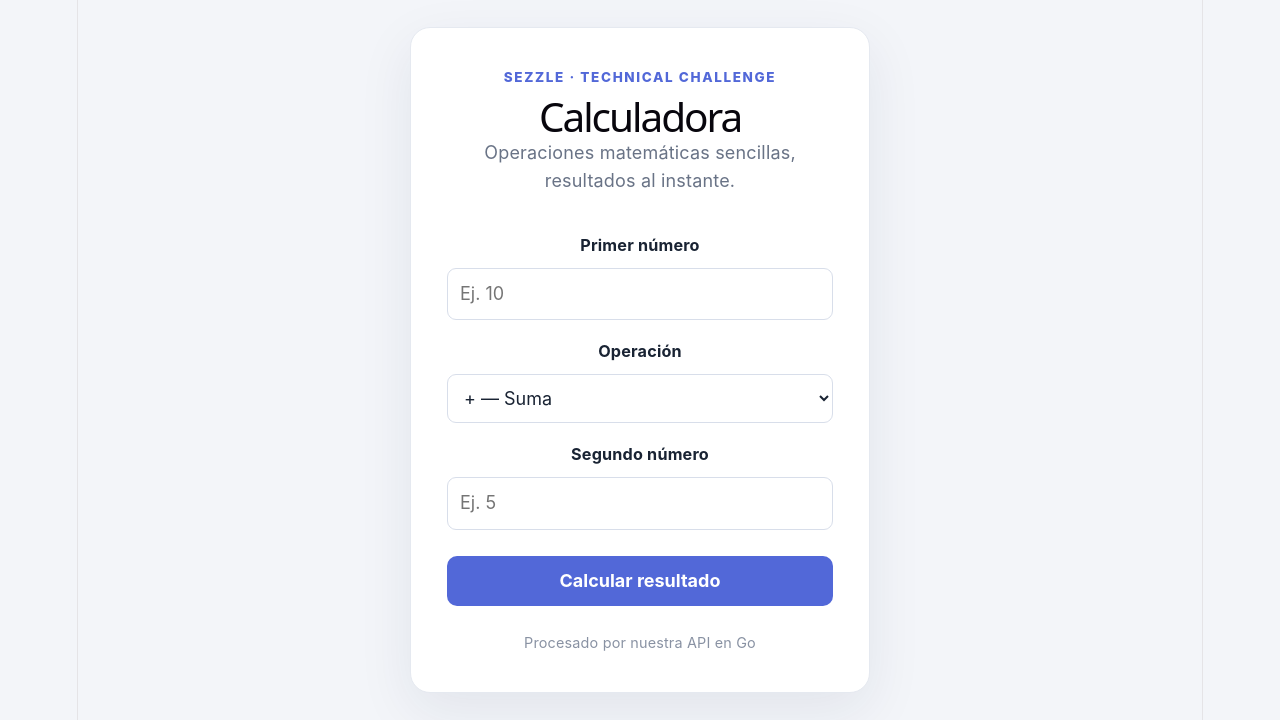
Scenario: Calculator › calculates power correctly
The width and height of the screenshot is (1280, 720).
Step 1. Type "2" into the number field labelled "Primer número" → (640,294), box [447,268,833,320]
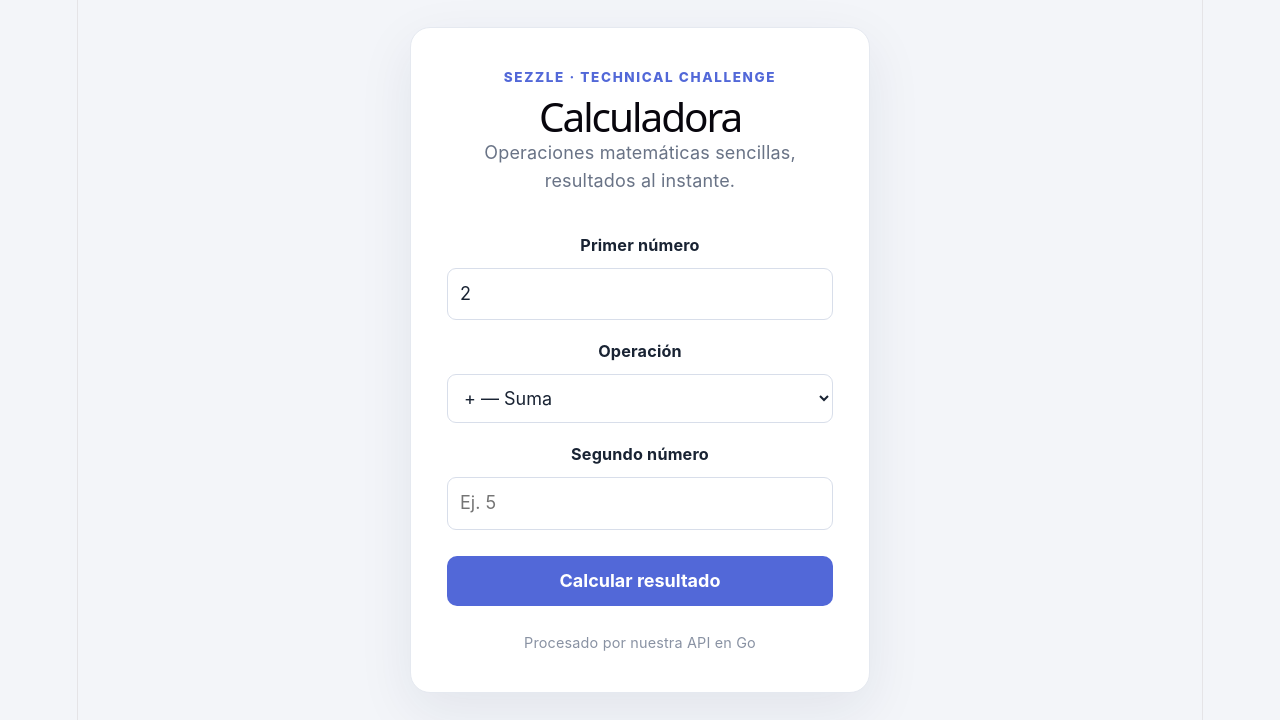
Step 2. Type "3" into the number field labelled "Segundo número" → (640,504), box [447,478,833,530]
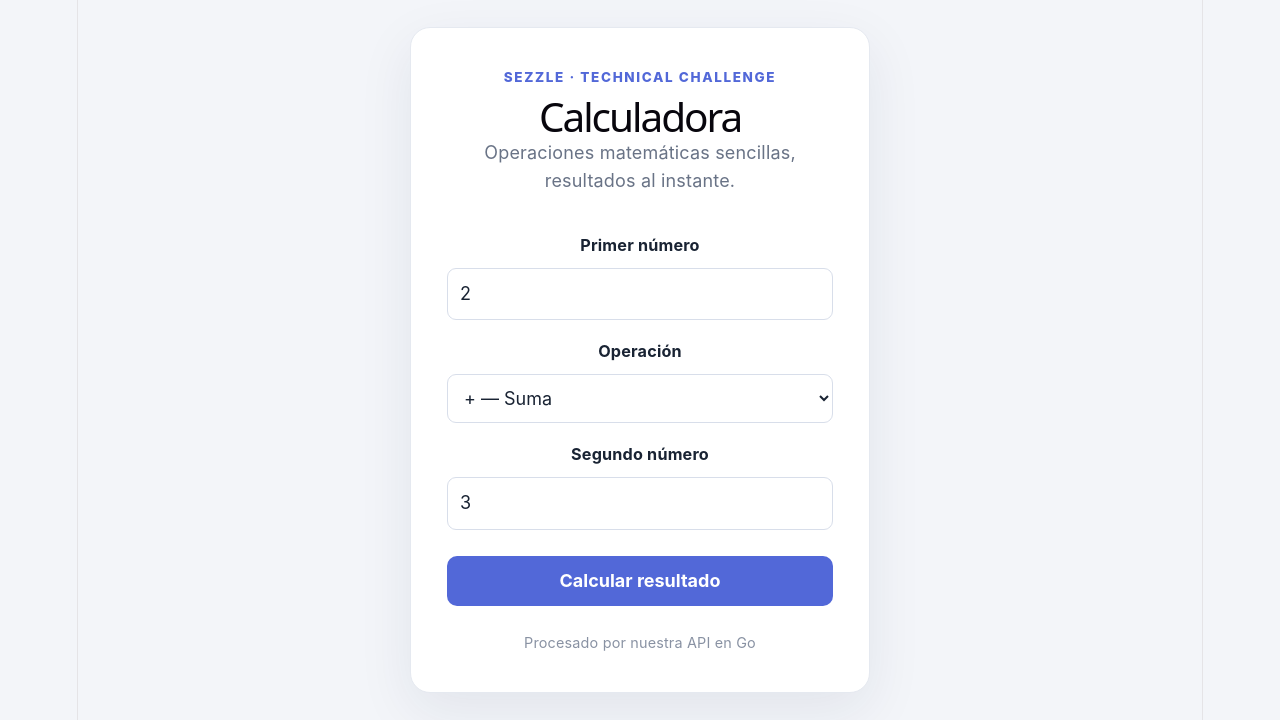
Step 3. Select "^ — Potenciación" in the dropdown labelled "Operación" → (640,399), box [447,374,833,423]
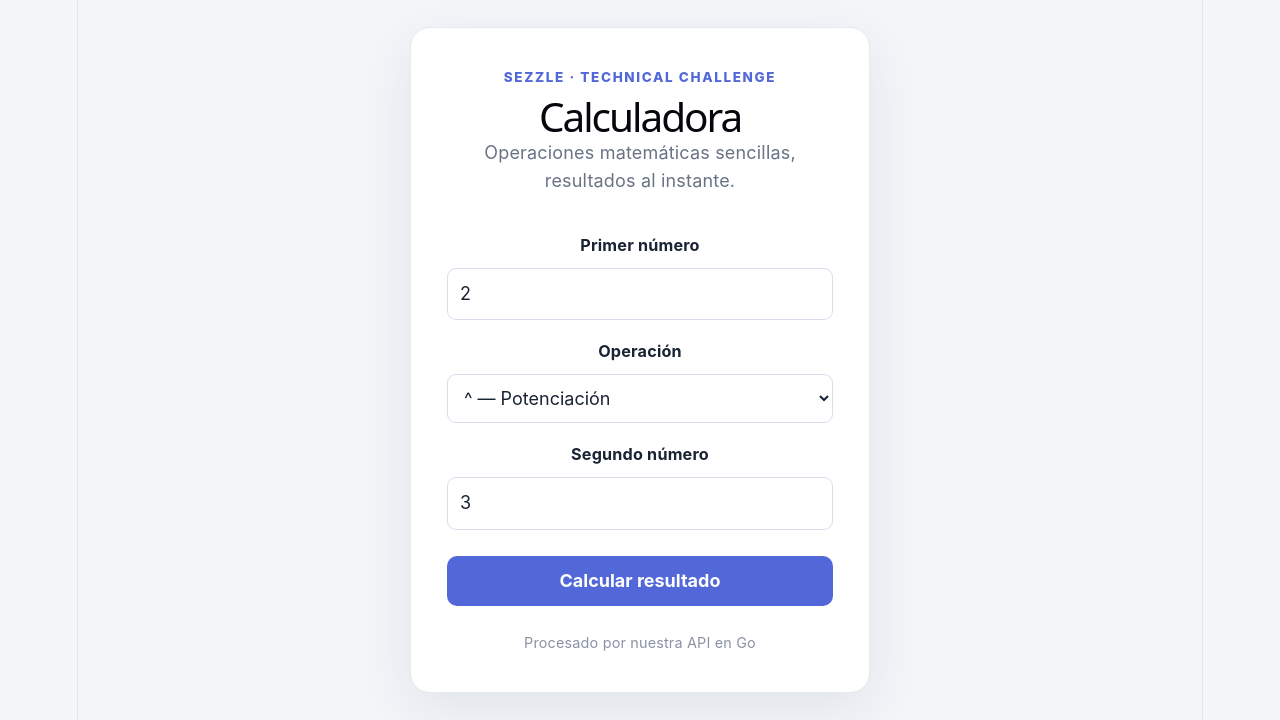
Step 4. Click the button "Calcular resultado" → (640,581), box [447,556,833,606]
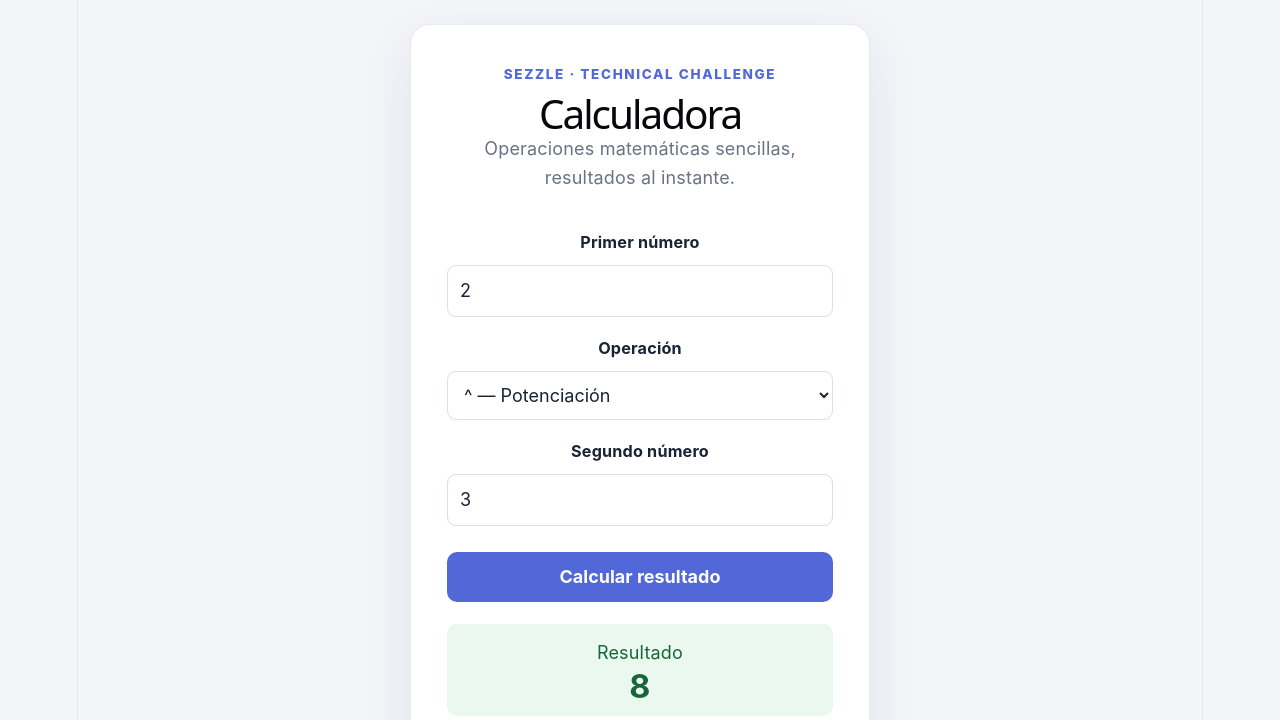
Expected: the text "8" is shown, [629,667,651,706]
